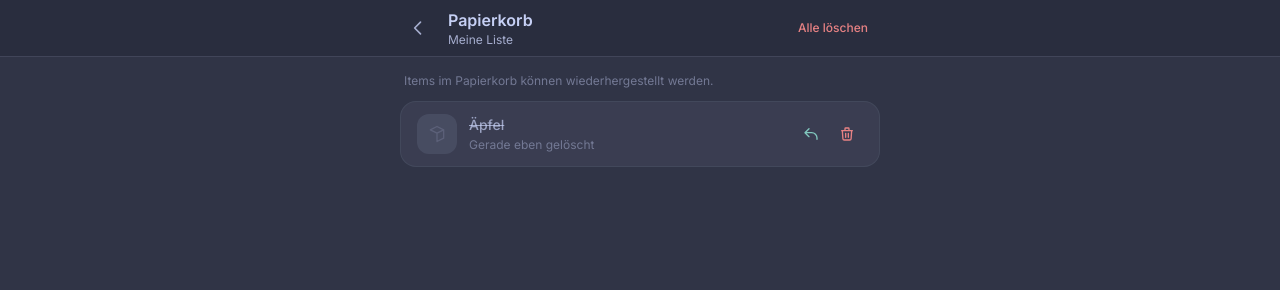
TrashView › removes restored item from list
Click the button named "Wiederherstellen".
click(811, 134)  # box [795,118,827,150]
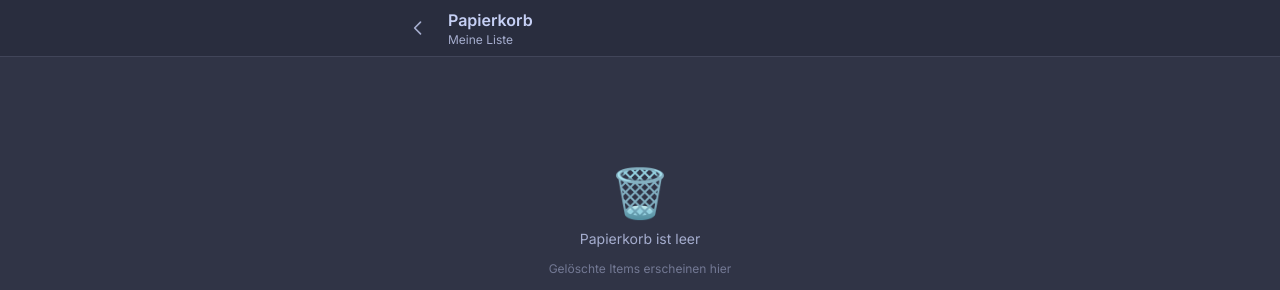
Expected: the text "Äpfel" is gone
